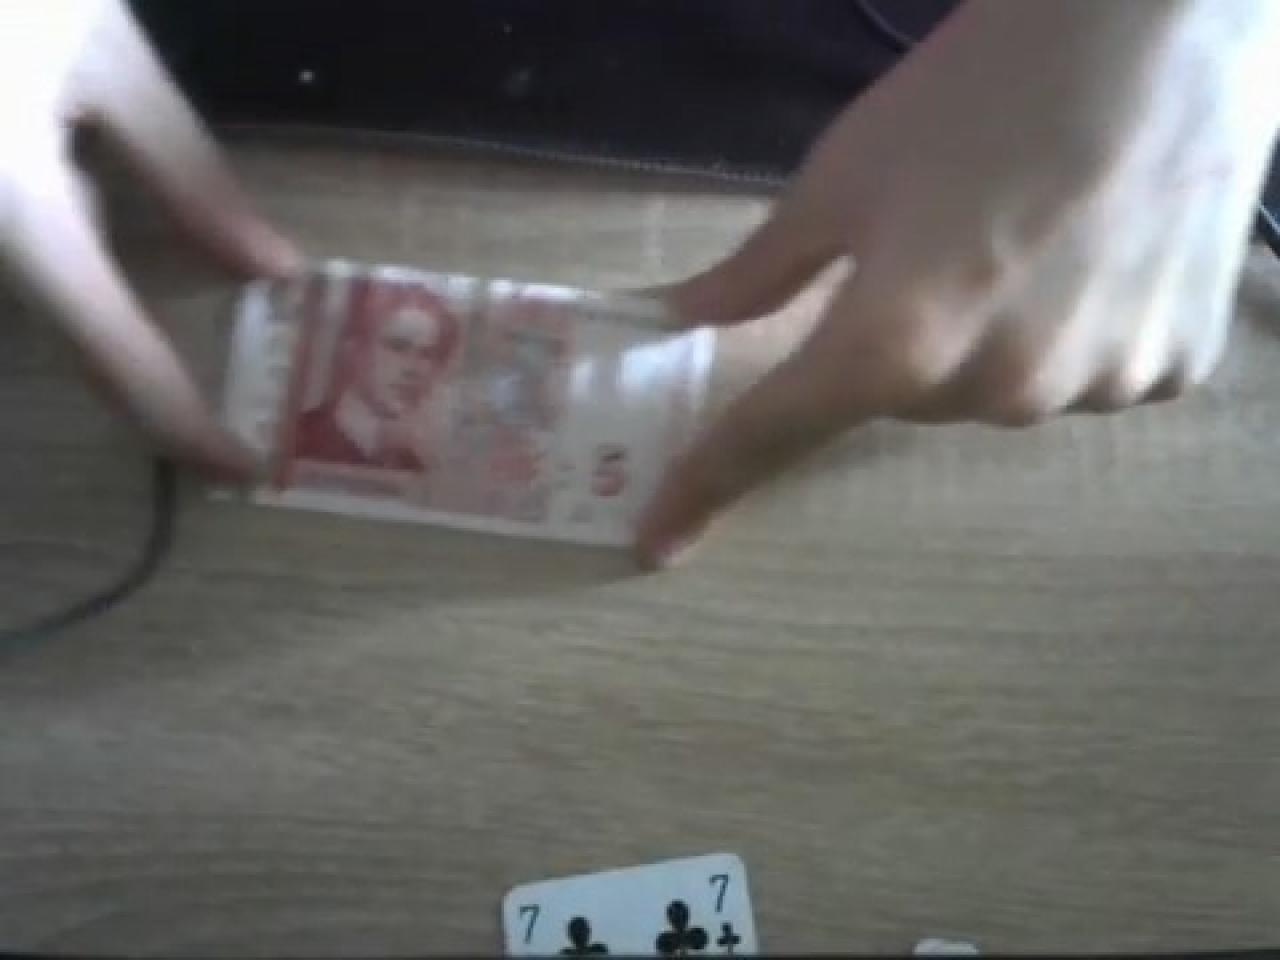5leva: (288, 274, 456, 483)
